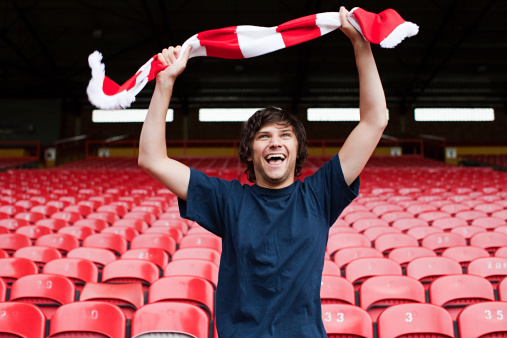em pe: (101, 66, 408, 338)
